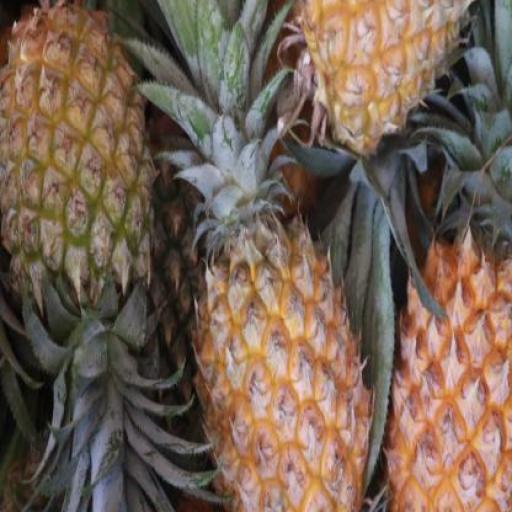------------------------------: (0, 0, 156, 294)
Pineapple - v8 v1: (187, 215, 358, 512), (385, 237, 512, 511)
